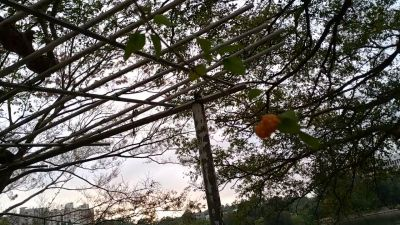eggs: (254, 113, 281, 138)
